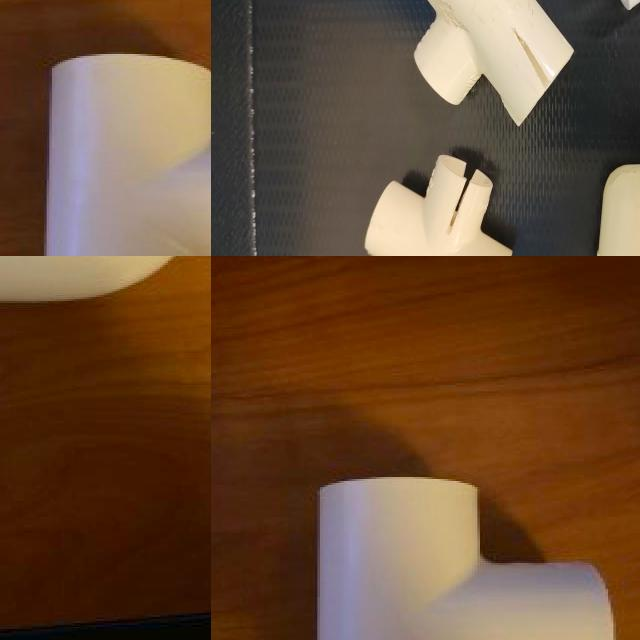Defective: (591, 189, 630, 256), (400, 173, 448, 219), (295, 143, 325, 206), (503, 65, 535, 113), (625, 149, 640, 198)
L Joint: (277, 108, 463, 256)
T Joint: (315, 477, 616, 640), (480, 25, 640, 256), (43, 54, 211, 256)
